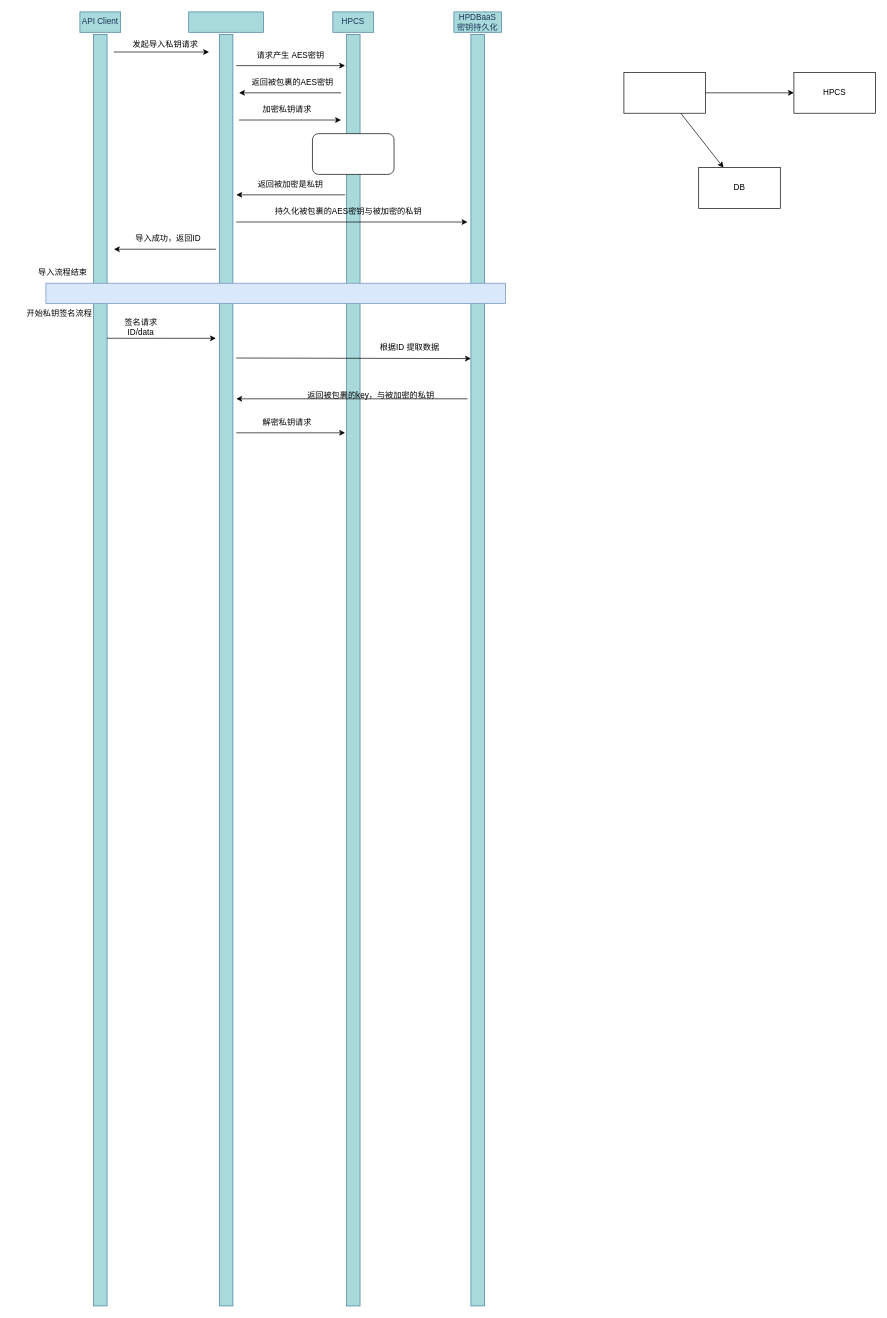
Some shapes in this 887 by 1318 pixel diagram are drawn without their labels. Each missing label, with the centre of its shape:
signing server: the point at 664,92
签名服务器: the point at 226,21
解包裹AES密钥，并加密私钥: the point at 353,153
